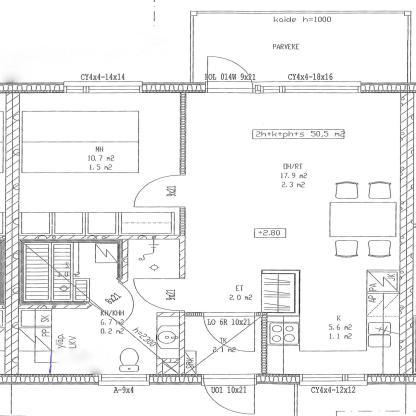door: (196, 373, 264, 416), (201, 53, 262, 95), (201, 312, 258, 354), (130, 277, 190, 316), (132, 173, 192, 210)
window: (56, 78, 147, 98), (256, 80, 368, 96), (295, 370, 374, 390), (95, 371, 151, 388)
